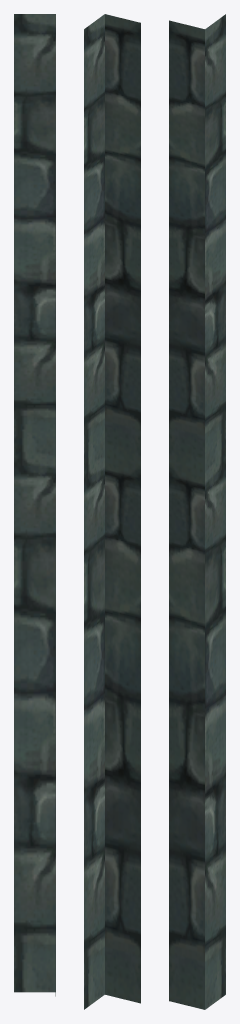
Rendered from crypt_wall_convex_02.fbx.
3 renders of one model, left to right at view 1: azimuth 90°, elevation 25°; view 2: azimuth 150°, elevation 25°; view 3: azimuth 330°, elevation 25°, orthographic.
Parts seen in each view (by area): view 1: crypt_tileset/crypt_wall01_tile; view 2: crypt_tileset/crypt_wall01_tile; view 3: crypt_tileset/crypt_wall01_tile.
Boxes of the visible parts, x1,y1,x2,y2 form: crypt_tileset/crypt_wall01_tile: (14,14,55,996); crypt_tileset/crypt_wall01_tile: (84,14,140,1009); crypt_tileset/crypt_wall01_tile: (169,14,225,1009).
Bounding box in the file's own units: 0.2124 × 5.5 × 0.2125.
